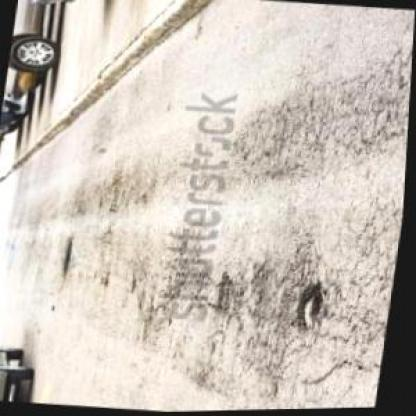pothole: (294, 280, 333, 334), (58, 232, 79, 278)
